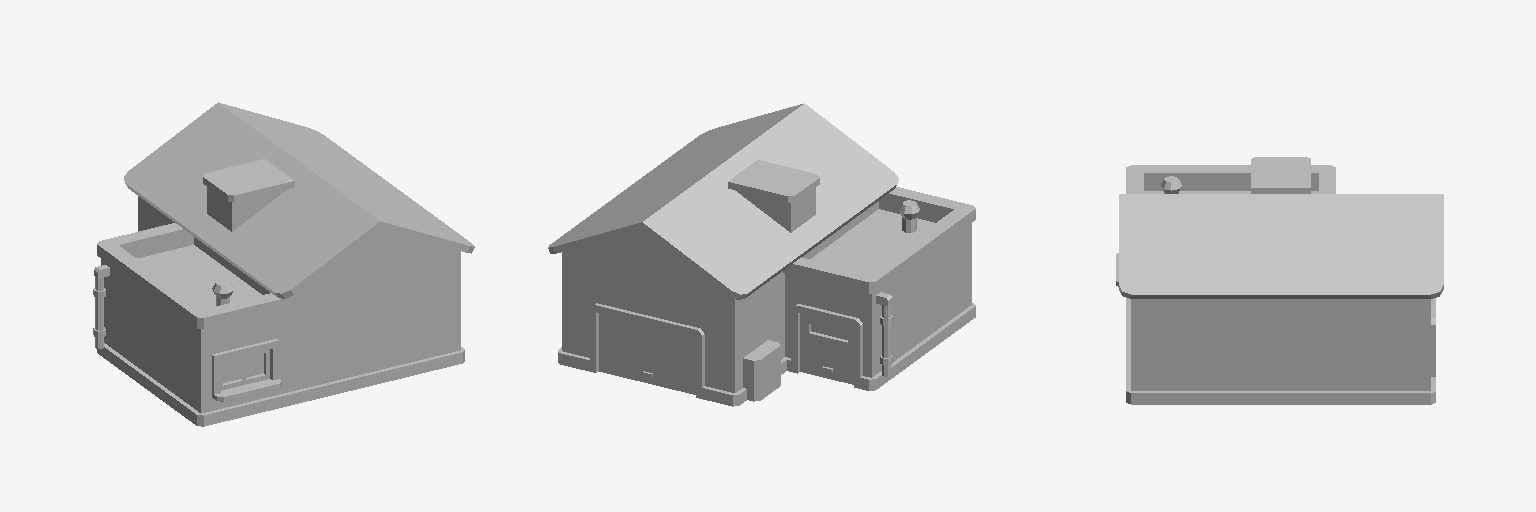
Rendered from industrial_building-h.obj.
3 views of the same model, side by side, from view 1: azimuth 30°, elevation 25°; view 2: azimuth 150°, elevation 25°; view 3: azimuth 270°, elevation 25° (orthographic).
Parts seen in each view (by area): view 1: building-h; view 2: building-h; view 3: building-h.
Boxes of the visible parts, box(x1,y1,x2,y2) form: building-h: box(93, 102, 474, 426); building-h: box(548, 103, 975, 406); building-h: box(1116, 157, 1443, 404).
Size of the model in its own units: 1.32 by 0.7335 by 1.31.